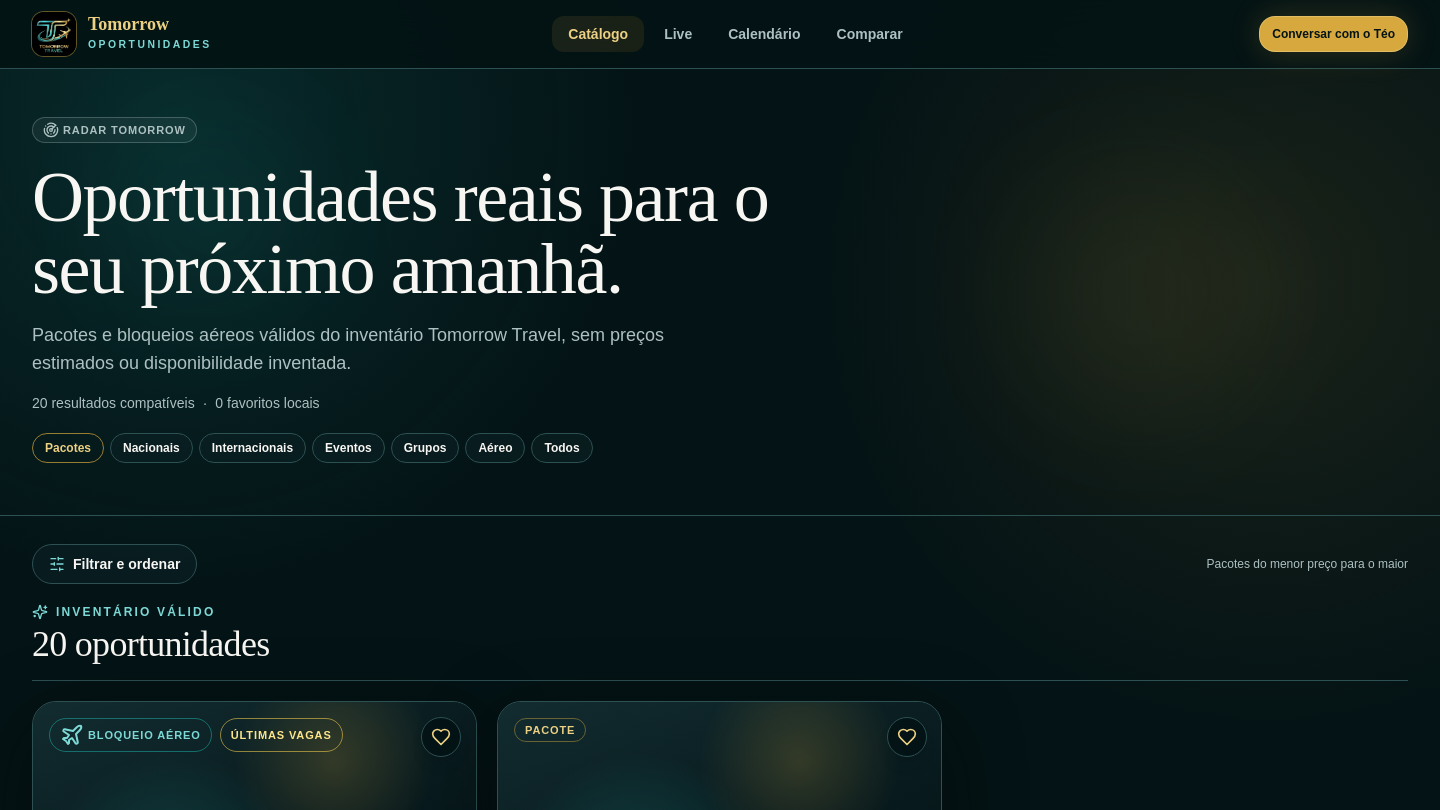
Catálogo de oportunidades › mantém favoritos somente no navegador
What coordinates should you click on to do the following:
click the button named "Adicionar aos favoritos" next to "Últimas vagas"
I would click on:
 (441, 737)
Its box is [421, 717, 461, 757].
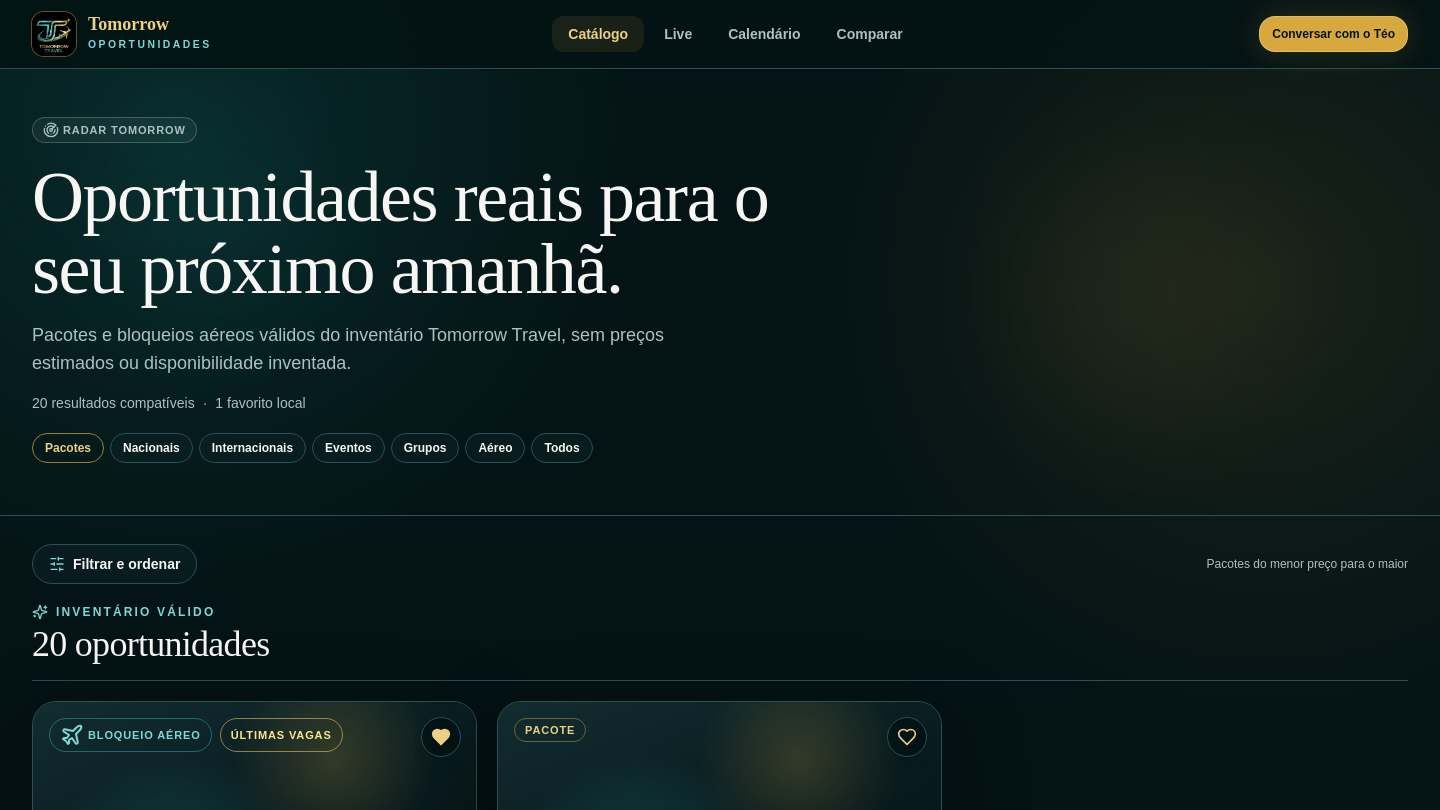
Check: the button named "Remover dos favoritos" is pressed, box [421, 717, 461, 757]
